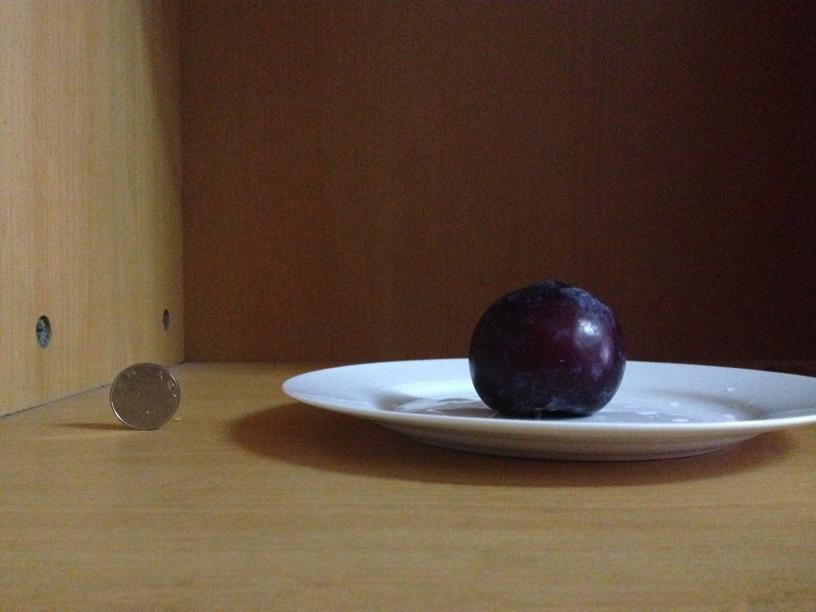coin: (110, 362, 177, 428)
plum: (466, 284, 627, 418)
